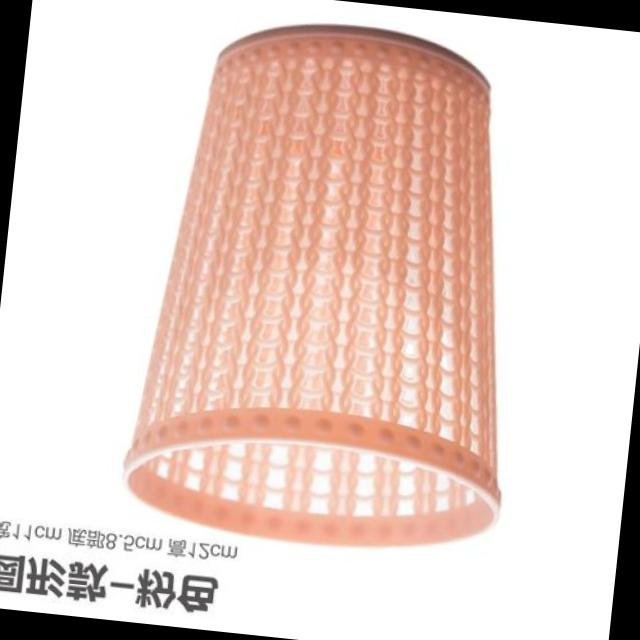dustbin: (114, 1, 558, 570)
